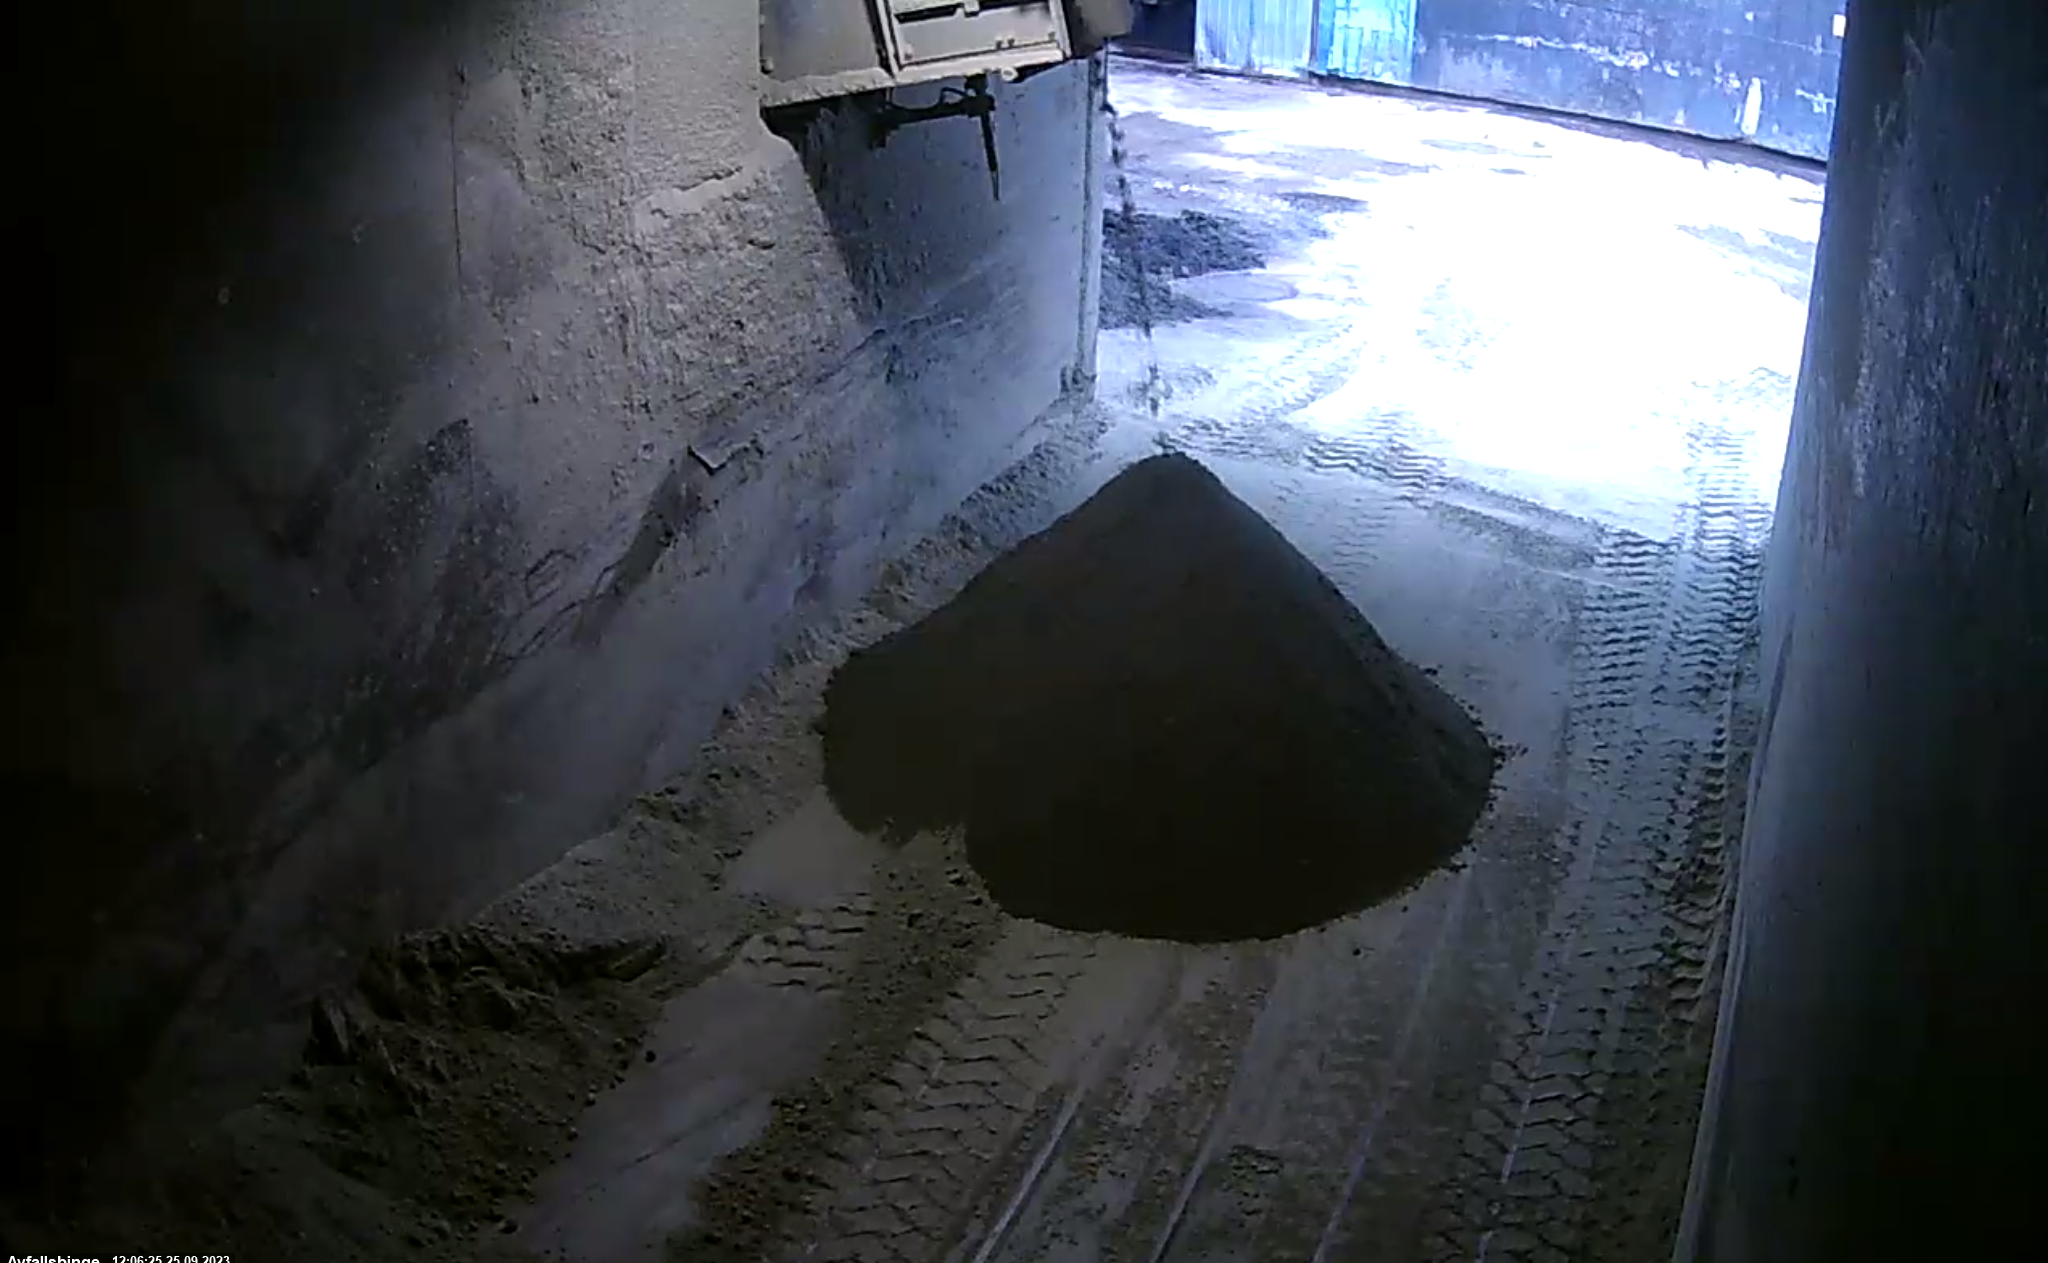pile: (829, 454, 1498, 951)
